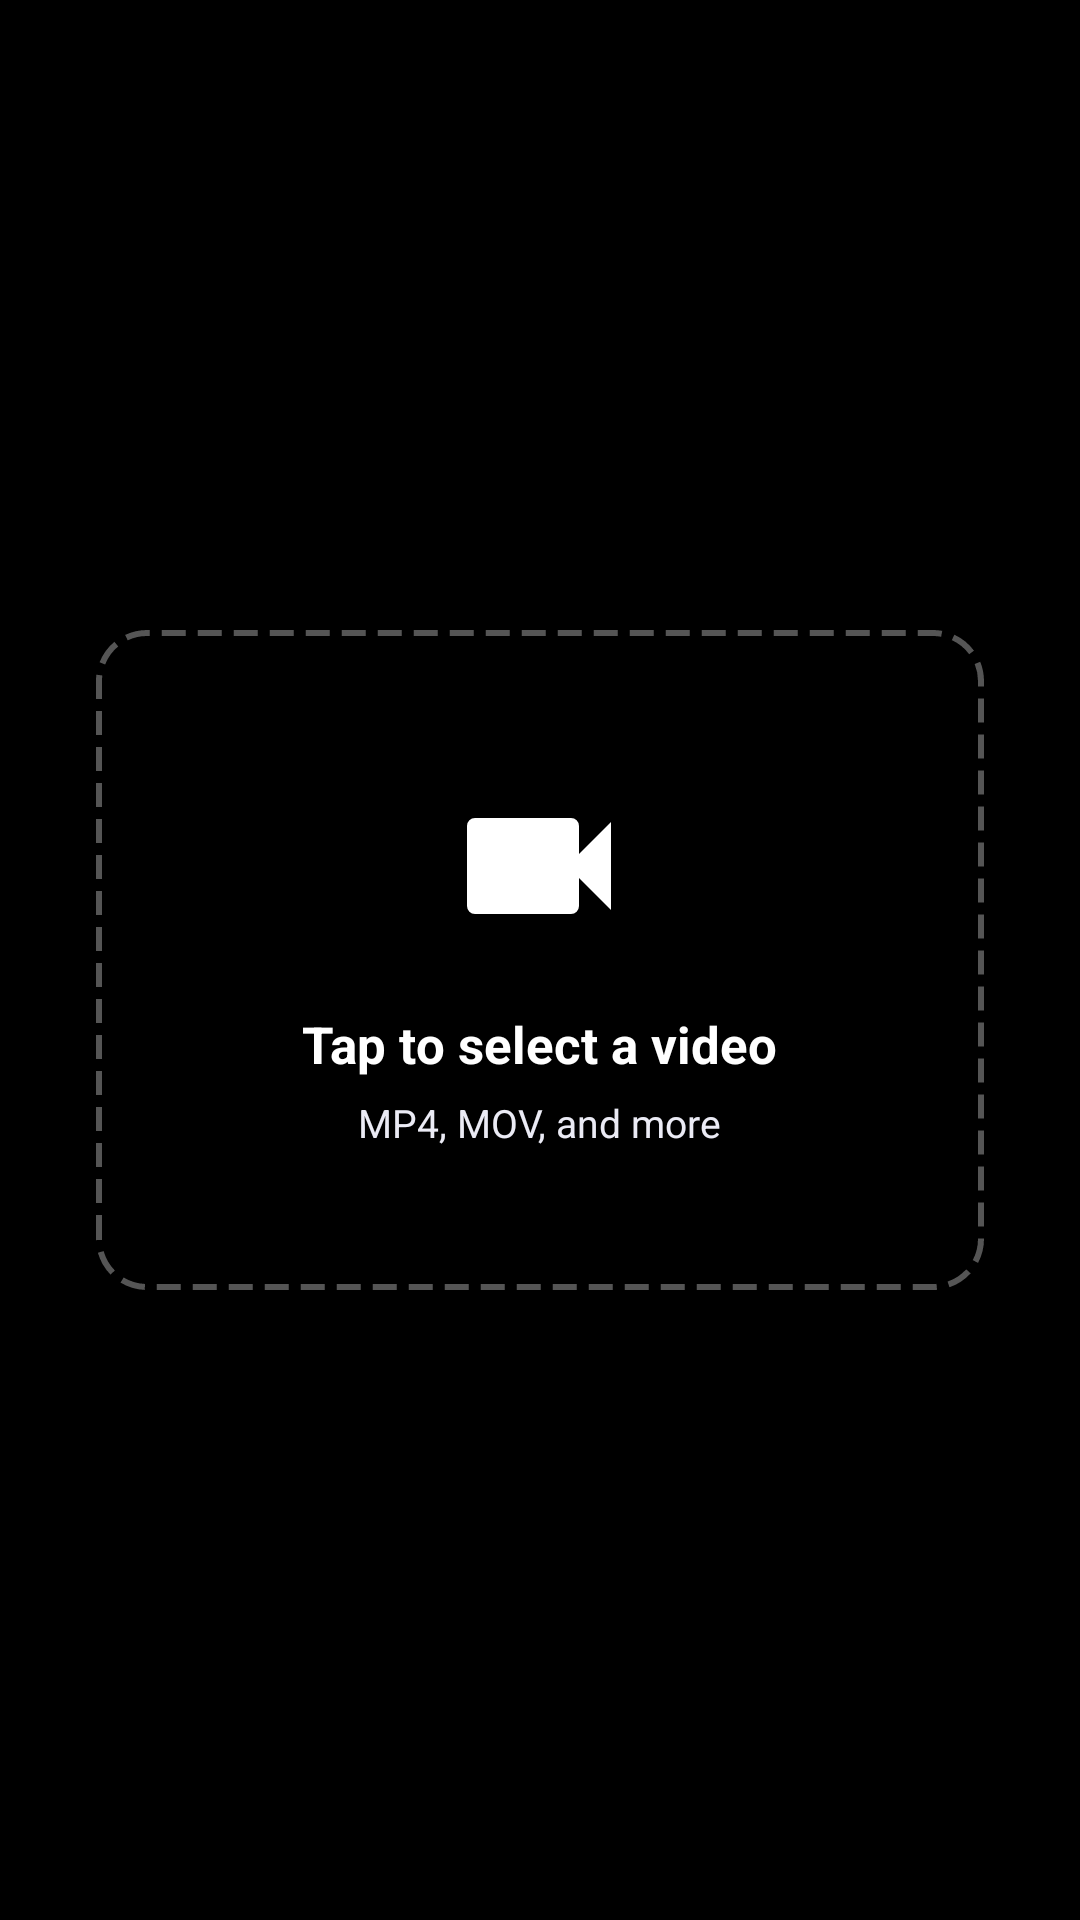

Icon bounding boxes for this 1080*1920 phone screenshot, format (x1, y1, x2, y2):
video upload: (467, 818, 611, 914)
